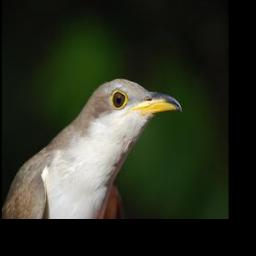Cuckoo: (2, 77, 182, 217)
